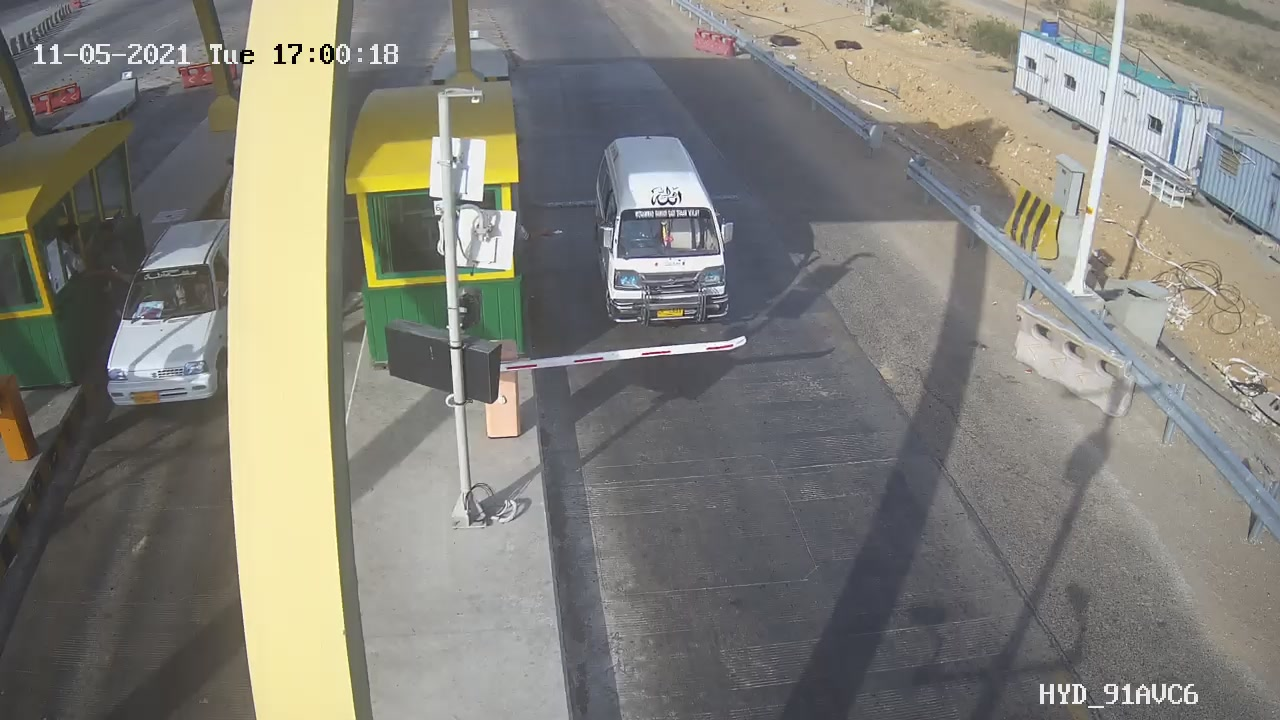F1: (572, 117, 761, 342)
